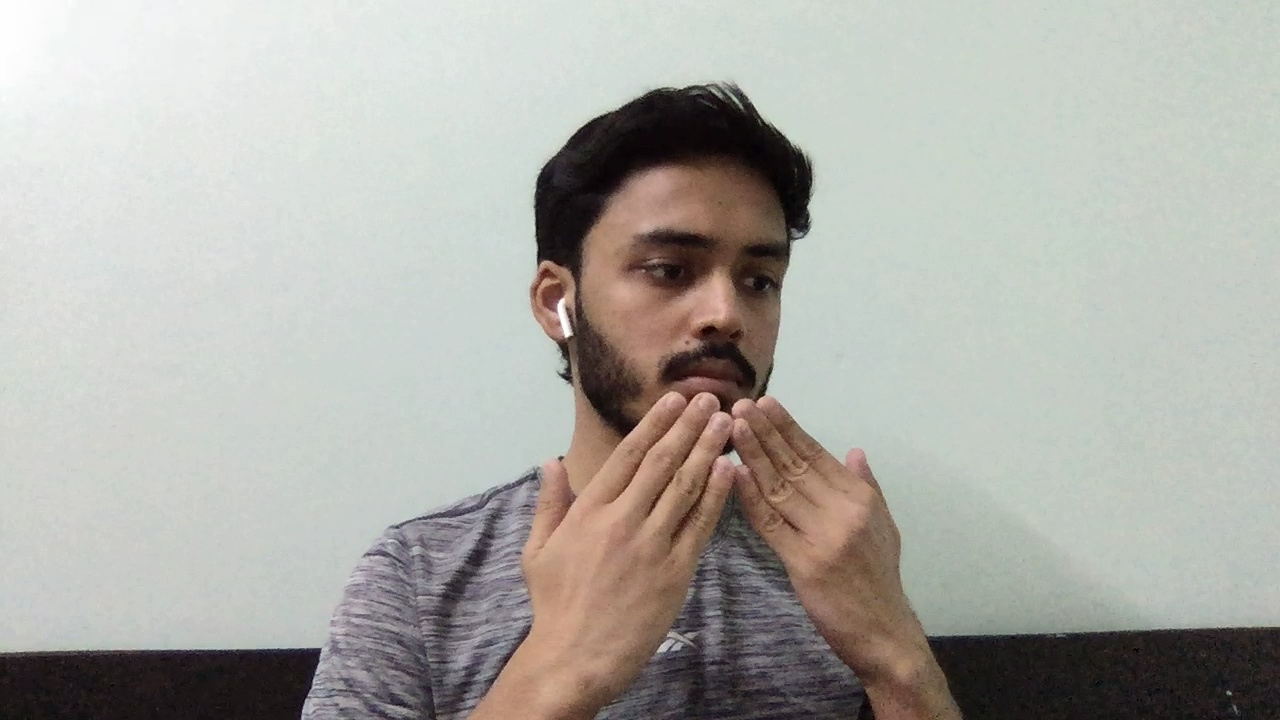Thank You: (510, 382, 952, 668)
